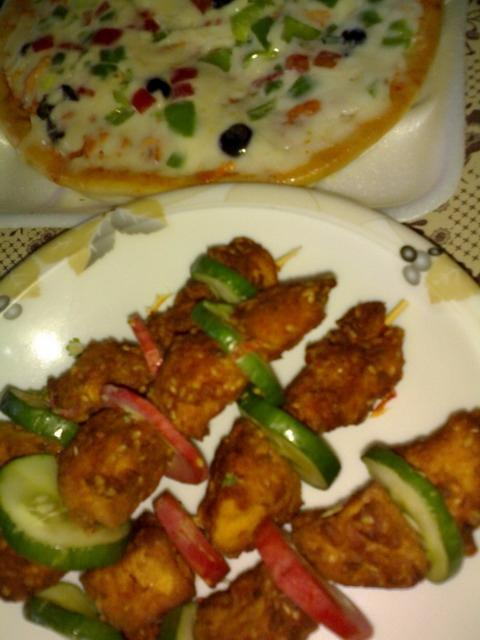bell pepper: (229, 2, 276, 48), (164, 100, 197, 136), (104, 90, 136, 126), (281, 16, 320, 44), (381, 17, 412, 50), (197, 47, 232, 72), (251, 16, 274, 51), (286, 76, 317, 100), (130, 88, 156, 114), (245, 98, 275, 120), (99, 46, 125, 63), (359, 11, 382, 27), (166, 152, 187, 168), (264, 80, 283, 96), (77, 30, 96, 44), (98, 10, 116, 23), (52, 52, 66, 66)
cucumber: (2, 454, 132, 570), (363, 444, 464, 582), (191, 301, 287, 405), (238, 394, 341, 490), (23, 582, 125, 640), (0, 387, 80, 448), (188, 253, 258, 305), (161, 603, 198, 640)
